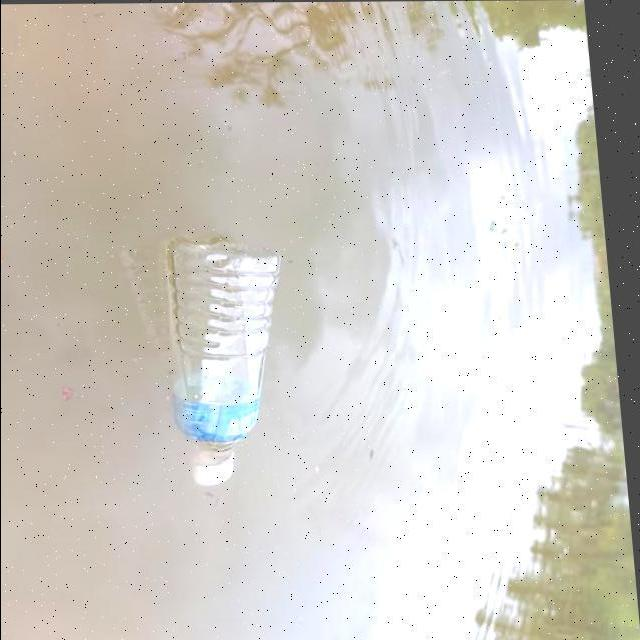Bottle: (156, 234, 280, 492)
